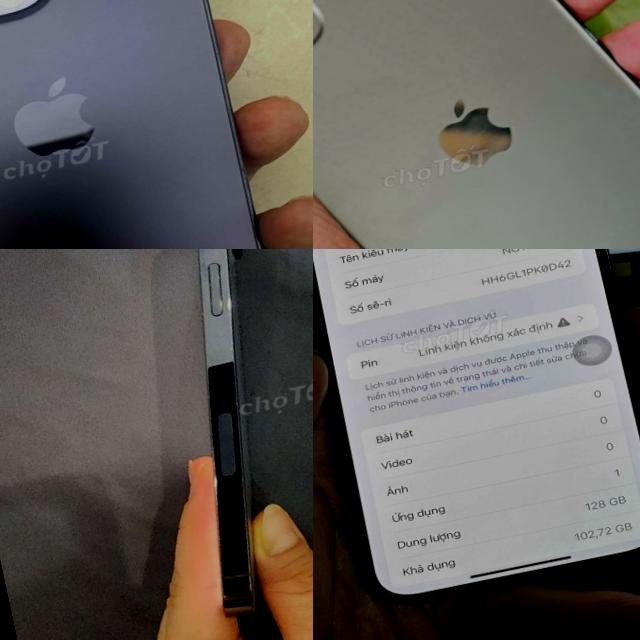gen_11: (313, 0, 640, 249)
gen_12_13: (313, 249, 640, 630), (120, 249, 313, 629)
gen_14: (0, 0, 297, 249)
